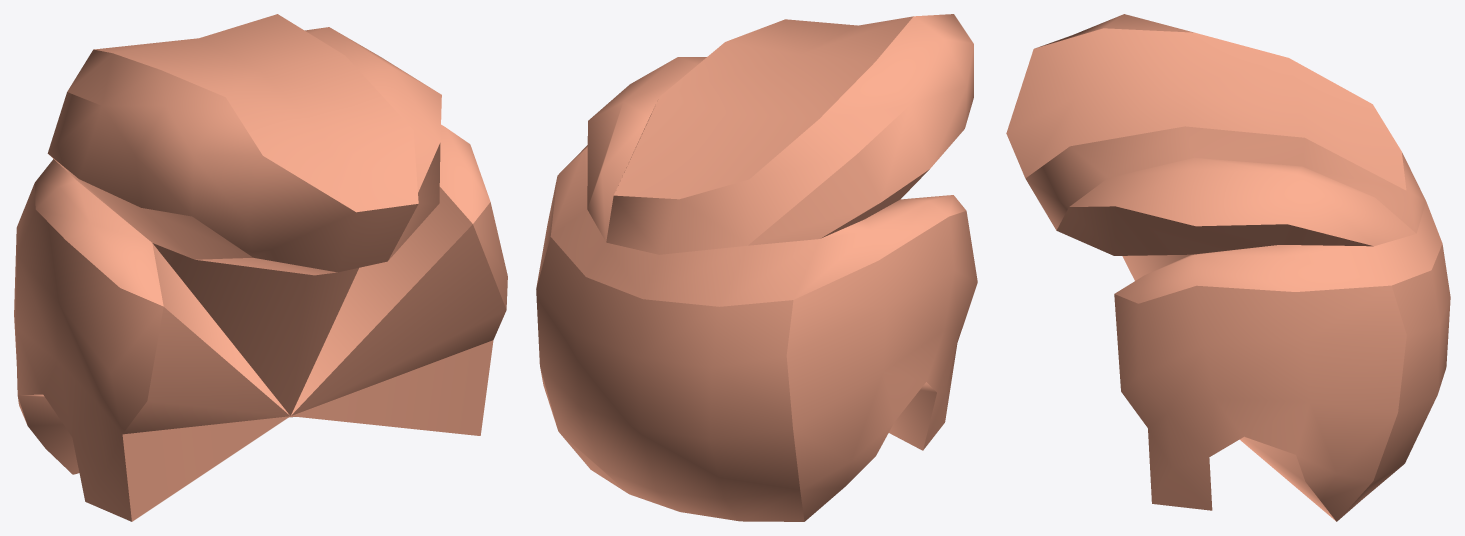
File: Hairs_02.fbx
3 renders of one model, left to right at view 1: azimuth 30°, elevation 25°; view 2: azimuth 150°, elevation 25°; view 3: azimuth 270°, elevation 25°, orthographic. The views are drawn at different scales.
Visible parts, largest first — view 1: Hairs_02; view 2: Hairs_02; view 3: Hairs_02.
Part boxes in pixels (x1,y1,x2,y2): Hairs_02: (14, 14, 507, 521); Hairs_02: (536, 14, 977, 521); Hairs_02: (1006, 14, 1450, 521).
Size of the model in its own units: 67.74 by 73.67 by 73.83.
